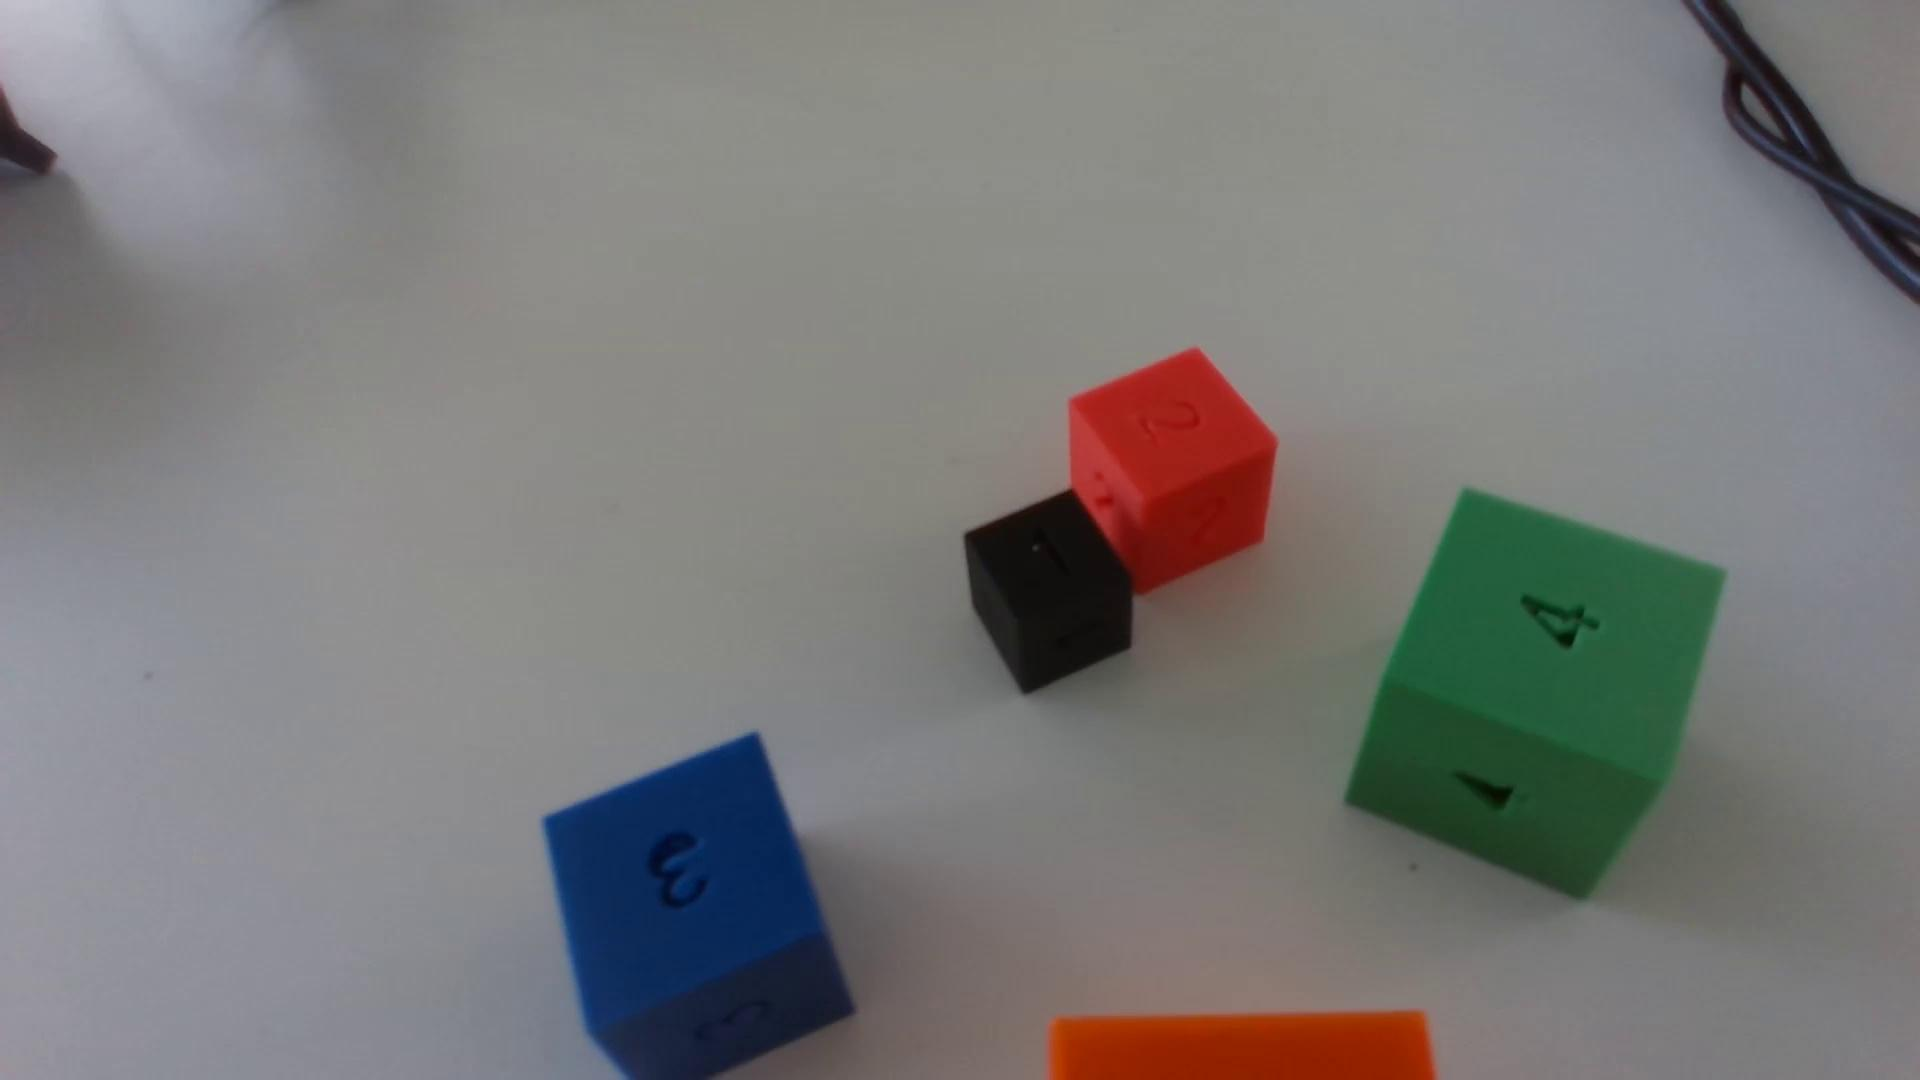black: (964, 491, 1134, 694)
blue: (545, 735, 855, 1080)
green: (1346, 491, 1725, 899)
orange: (1047, 1011, 1436, 1080)
red: (1068, 349, 1278, 595)
